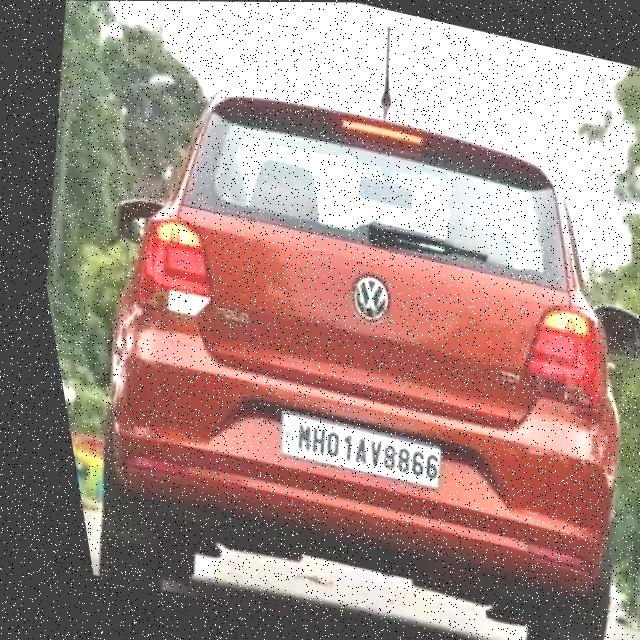license_plate: (245, 391, 440, 491)
